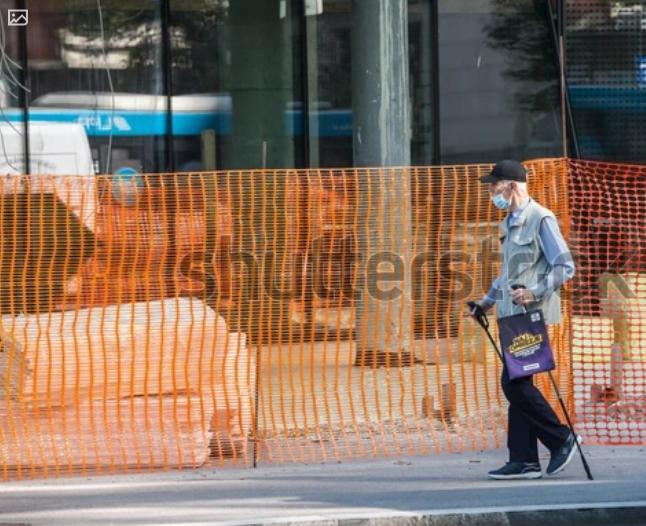crutches: (466, 159, 592, 482)
